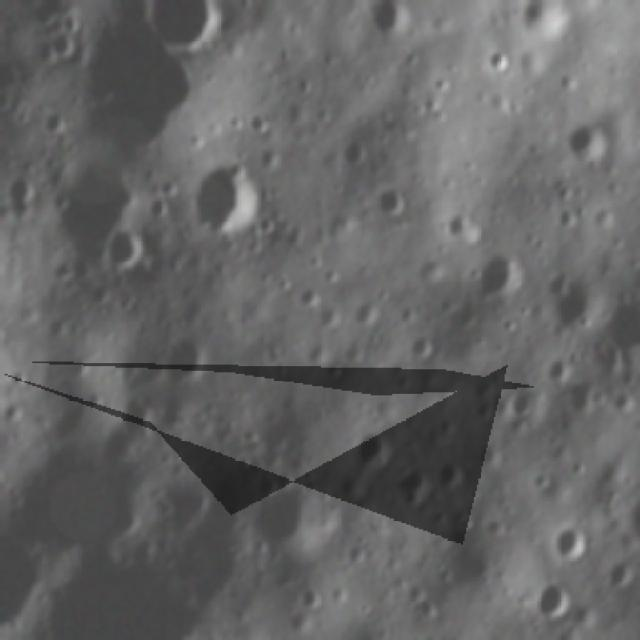crater: (12, 452, 151, 550), (243, 471, 322, 547), (196, 168, 261, 234), (142, 0, 224, 49), (163, 334, 217, 386), (99, 222, 153, 268), (42, 10, 88, 61), (475, 251, 527, 294), (533, 575, 579, 622), (351, 427, 402, 468), (361, 2, 412, 40), (404, 327, 442, 370), (562, 124, 604, 162), (501, 384, 539, 424), (550, 525, 590, 557), (371, 184, 404, 221), (316, 301, 344, 330), (486, 48, 512, 78), (296, 280, 322, 306)
